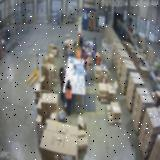Vest: (66, 85, 72, 99), (59, 74, 65, 84), (77, 49, 81, 60), (96, 54, 100, 65), (85, 58, 88, 69), (155, 60, 158, 70)
